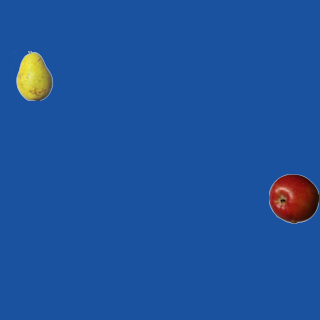Apple Braeburn: (268, 173, 318, 223)
Pear Monster: (9, 50, 59, 100)
